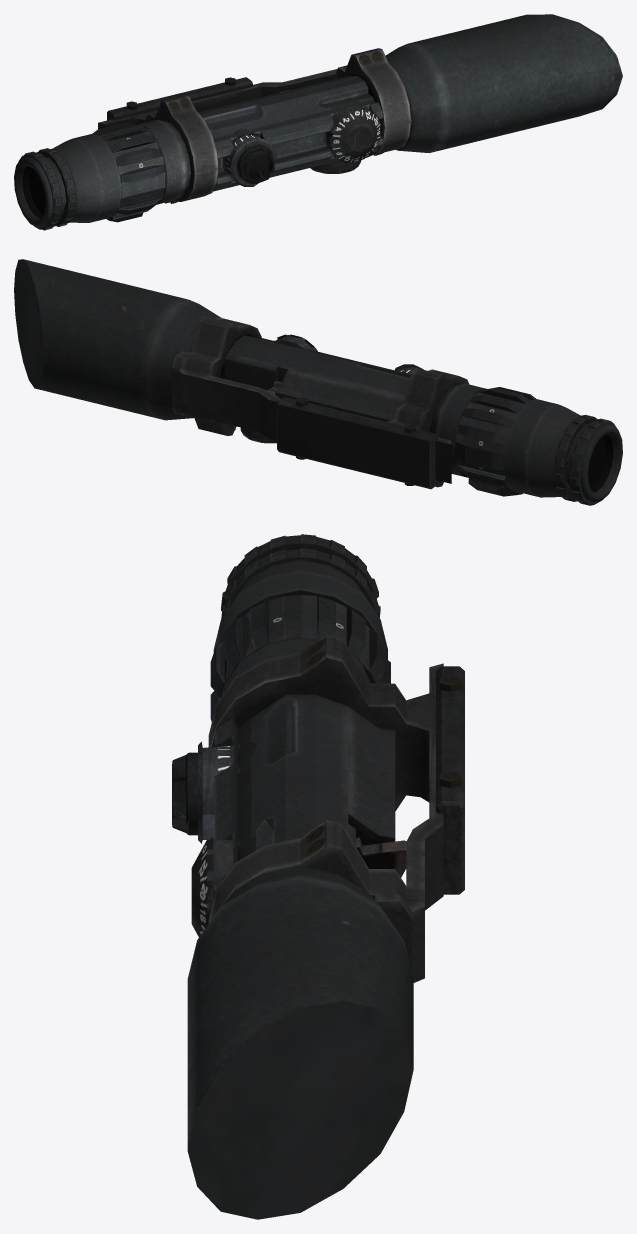
File: t6_wpn_sniper_svu_scope_view_LOD0.obj
3 renders of one model, top to bottom at view 1: azimuth 30°, elevation 25°; view 2: azimuth 150°, elevation 25°; view 3: azimuth 270°, elevation 25°, orthographic. The views are drawn at different scales.
Visible parts, largest first — view 1: mtl_t6_wpn_sniper_svu_scope, mtl_t6_wpn_sniper_svu_scope_camo2, mtl_t6_wpn_sniper_svu_lens; view 2: mtl_t6_wpn_sniper_svu_scope, mtl_t6_wpn_sniper_svu_scope_camo2, mtl_t6_wpn_sniper_svu_lens; view 3: mtl_t6_wpn_sniper_svu_scope, mtl_t6_wpn_sniper_svu_scope_camo2.
Part boxes in pixels (<box>): mtl_t6_wpn_sniper_svu_scope: <box>14,14,622,227</box>; mtl_t6_wpn_sniper_svu_scope_camo2: <box>18,48,411,230</box>; mtl_t6_wpn_sniper_svu_lens: <box>29,168,45,214</box>; mtl_t6_wpn_sniper_svu_scope: <box>14,259,622,502</box>; mtl_t6_wpn_sniper_svu_scope_camo2: <box>191,316,617,505</box>; mtl_t6_wpn_sniper_svu_lens: <box>588,436,606,488</box>; mtl_t6_wpn_sniper_svu_scope: <box>180,559,464,1219</box>; mtl_t6_wpn_sniper_svu_scope_camo2: <box>172,534,464,923</box>.
Size of the model in its own units: 31.16 by 5.46 by 7.01.
